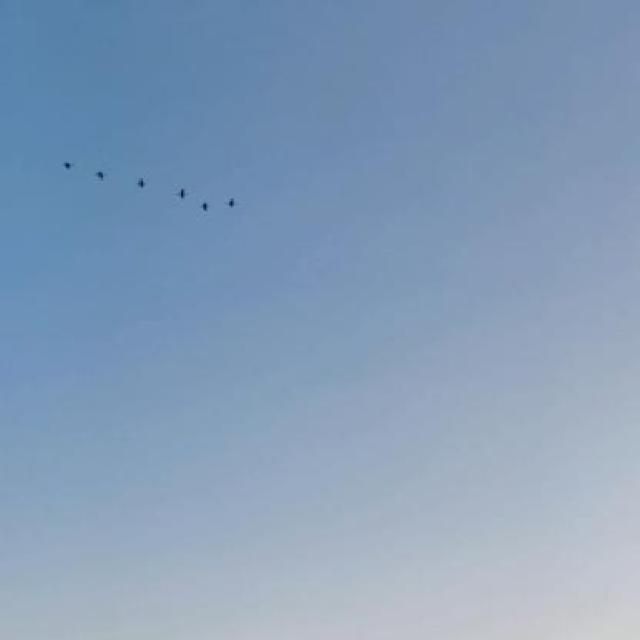bird: (173, 187, 190, 201), (197, 200, 214, 214), (134, 178, 152, 190), (61, 160, 76, 172), (94, 170, 108, 182), (224, 197, 239, 208)
